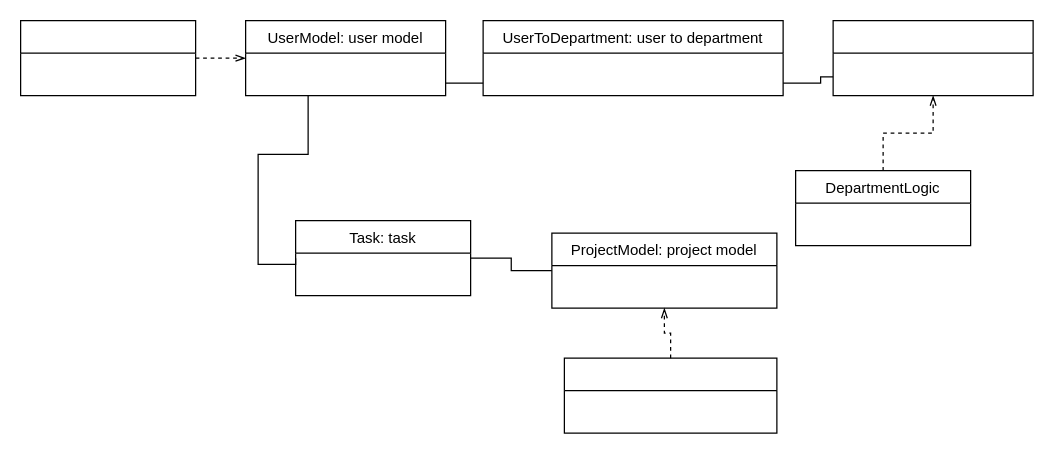
Image size: 1054x454. Some labels were removed from this diagram. Here are the shapes that lost their labels. From the top down, the centre of each, then its label:
pixel 107 57: UserLogic: user logic
pixel 932 57: Department: department
pixel 670 395: ProjectLogic: project logic
